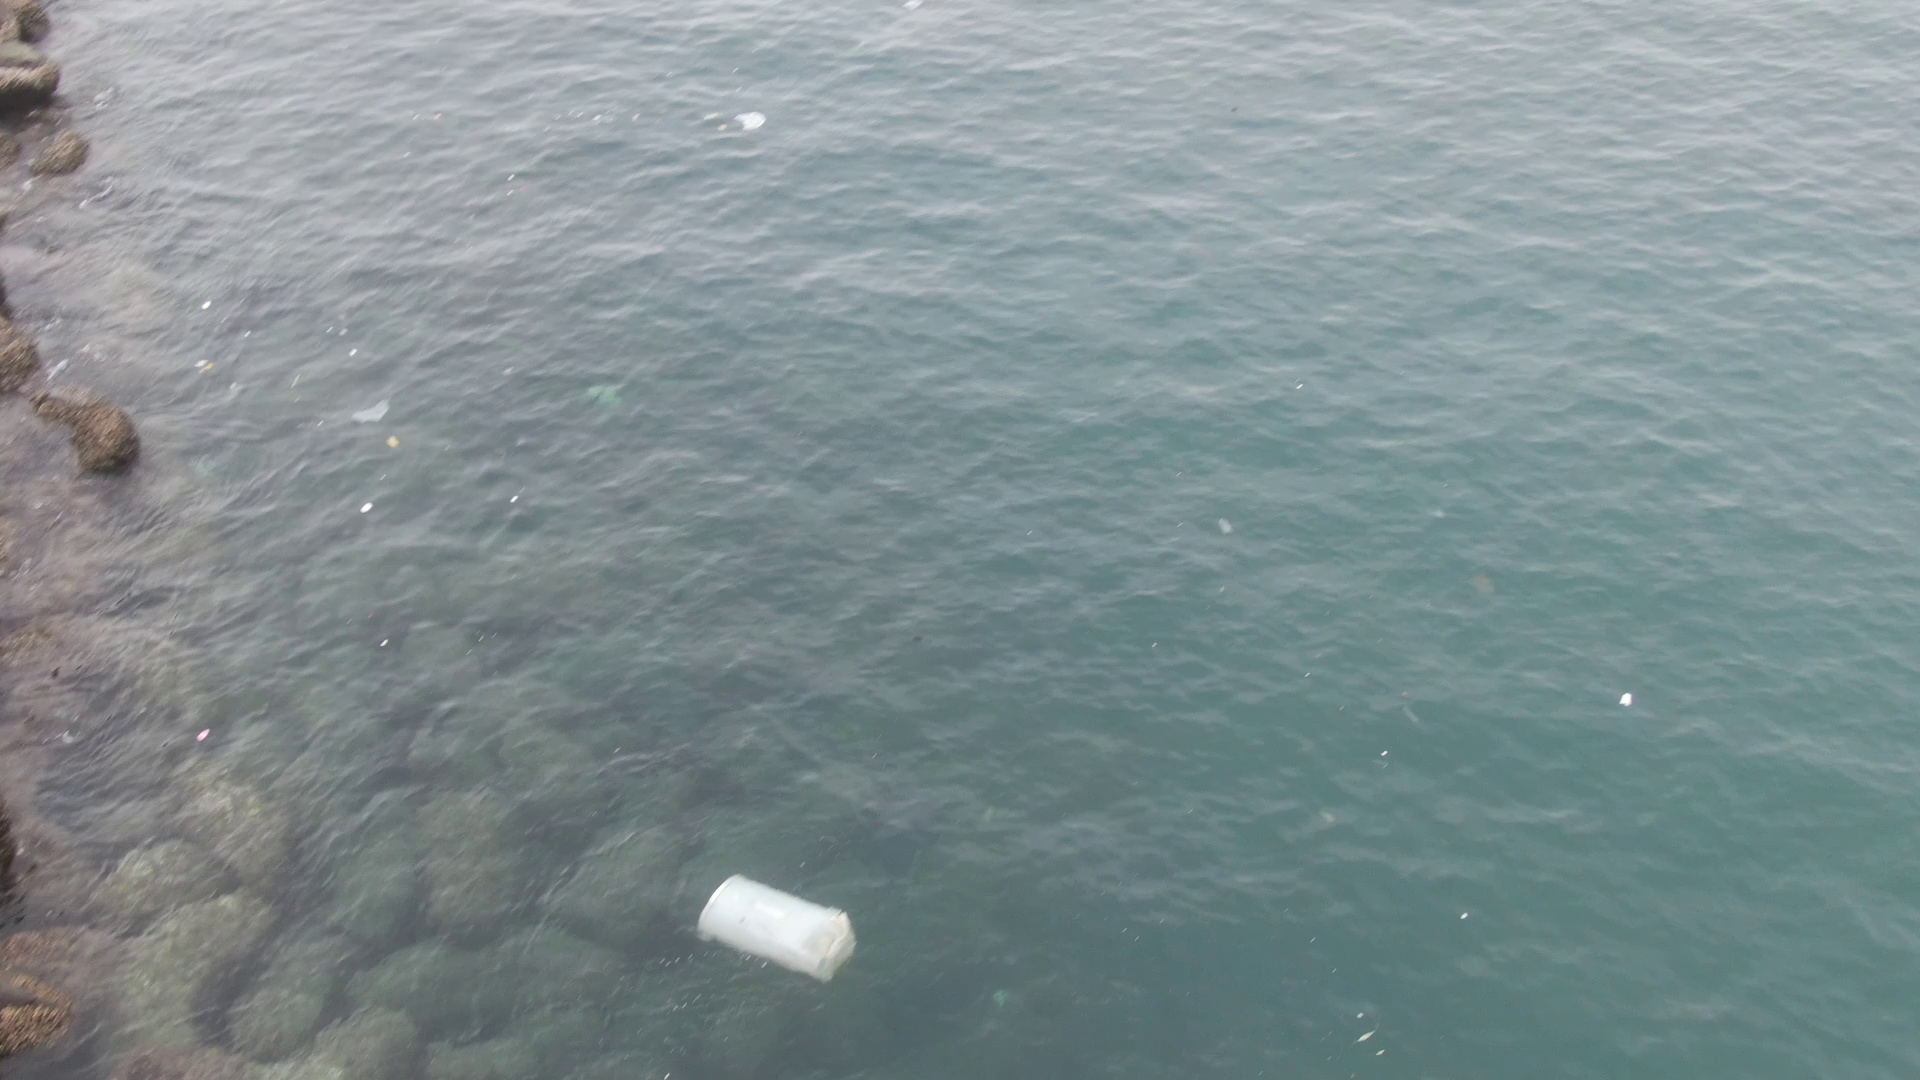garbage: (684, 870, 872, 986), (1618, 684, 1640, 713)
